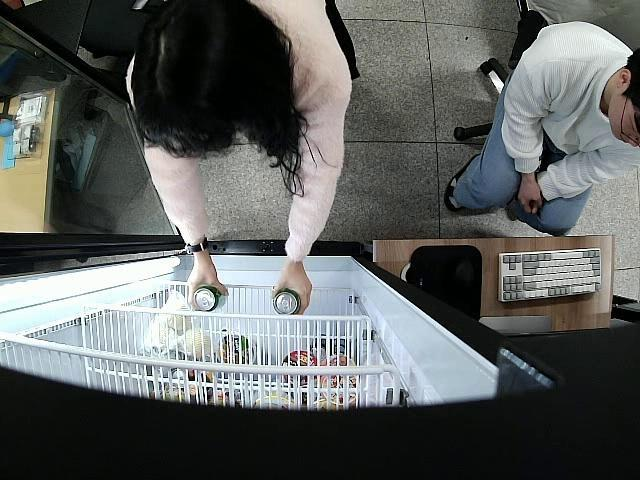12_chilsungCider: (192, 283, 228, 312), (272, 290, 301, 317)
